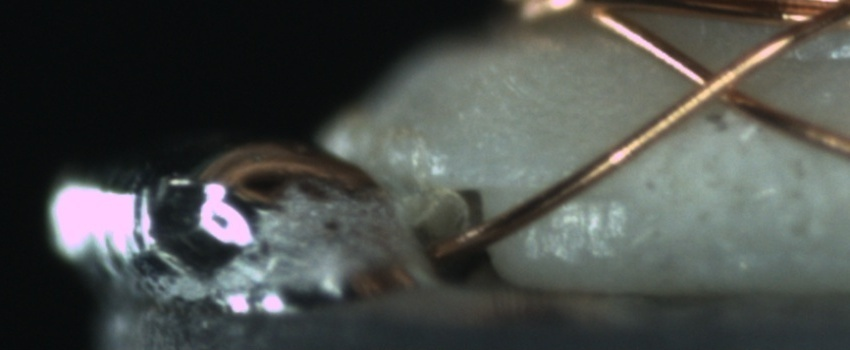CL: (669, 48, 760, 120)
